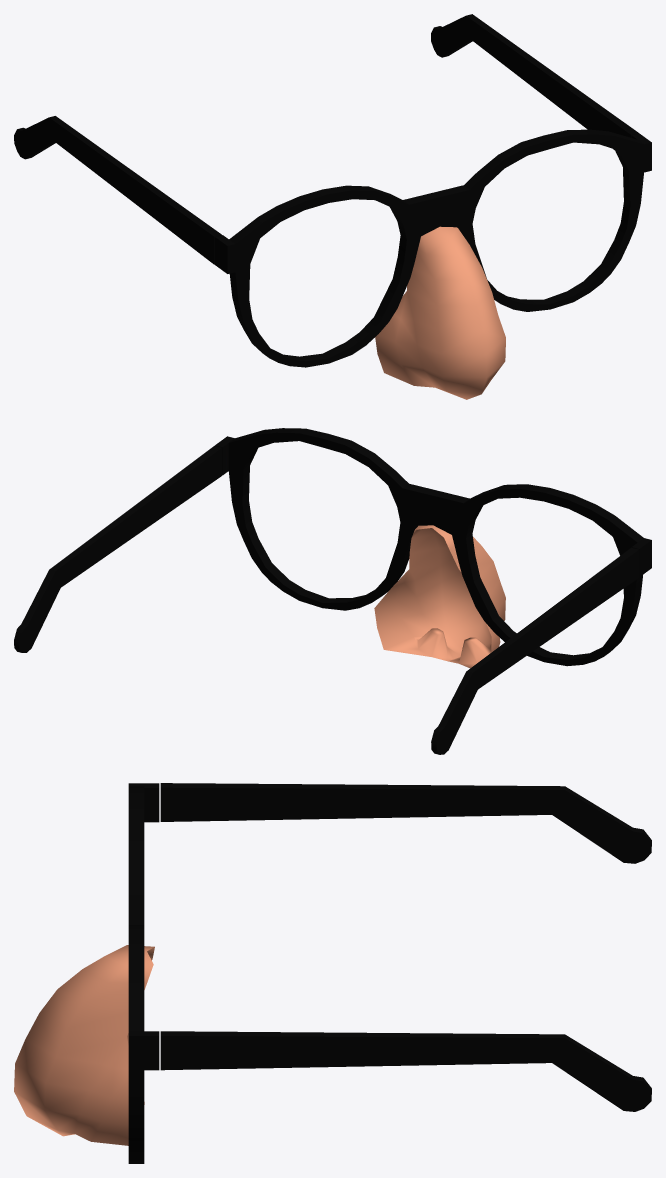
The model's file is Disguise.glb.
The picture shows the model from 3 angles, top to bottom: view 1: azimuth 30°, elevation 25°; view 2: azimuth 150°, elevation 25°; view 3: azimuth 270°, elevation 25°; orthographic projection. The views are drawn at different scales.
Parts seen in each view (by area): view 1: Disguise; view 2: Disguise; view 3: Disguise.
Part boxes in pixels (x1,y1,x2,y2): Disguise: [14, 14, 651, 399]; Disguise: [14, 428, 651, 754]; Disguise: [14, 783, 651, 1163].
Size of the model in its own units: 0.8084 by 0.3877 by 0.8621.
1 material, 1 textured.
